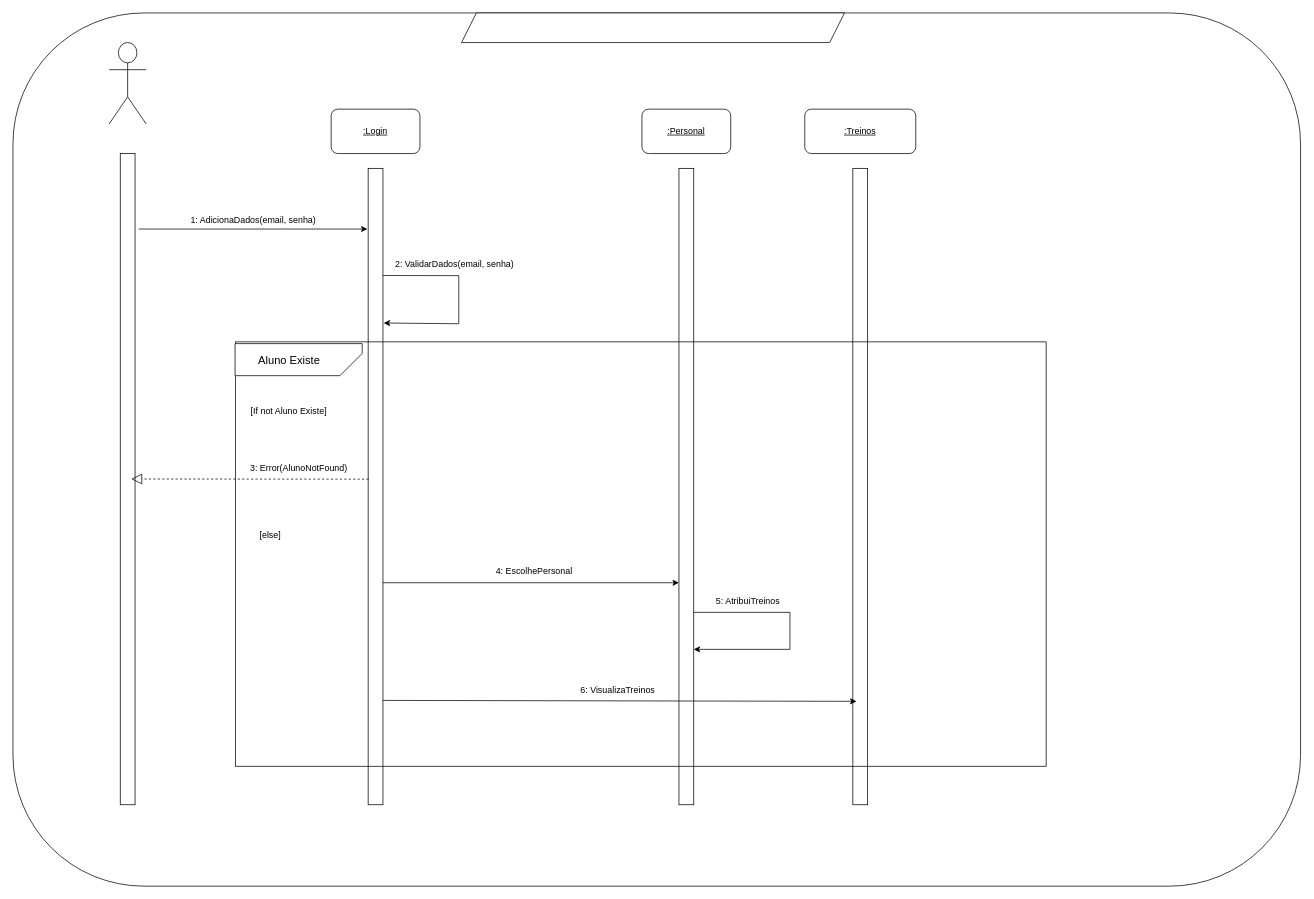
Some shapes in this 1314 by 899 pixel diagram are drawn without their labels. Each missing label, with the centre of its shape:
":Aluno" belongs at [127,83].
"Diagrama de Sequência - Selecionar Personal" belongs at [652,27].
